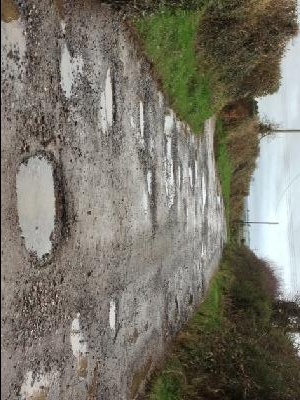pothole: (13, 149, 68, 268), (70, 307, 94, 379), (58, 36, 83, 103), (16, 364, 57, 400), (144, 161, 159, 235), (104, 64, 117, 127), (108, 297, 121, 343), (164, 109, 176, 135), (187, 158, 196, 192)
